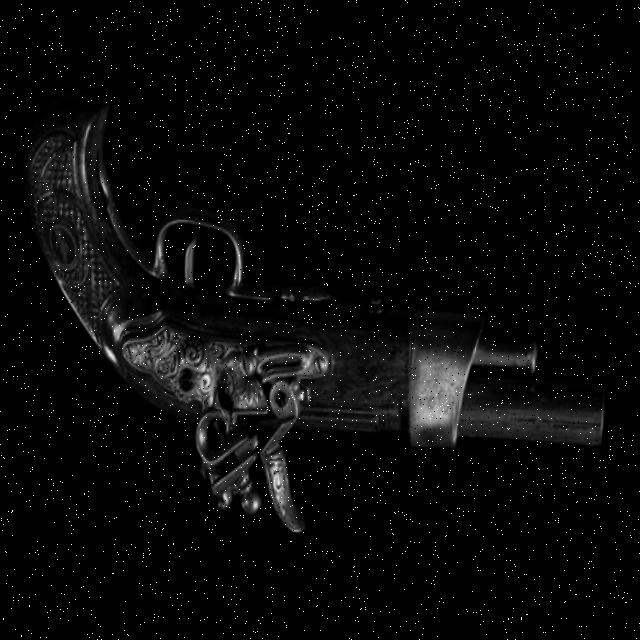pistol: (6, 83, 622, 546)
